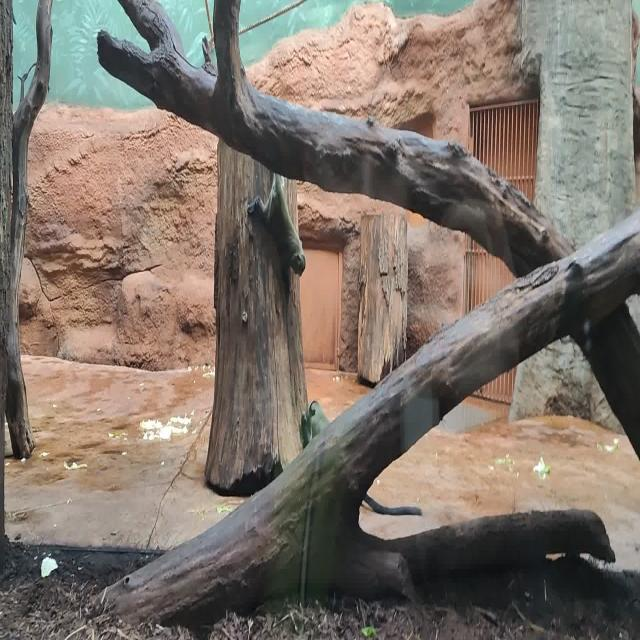monkey: (247, 173, 306, 305), (302, 401, 332, 449)
